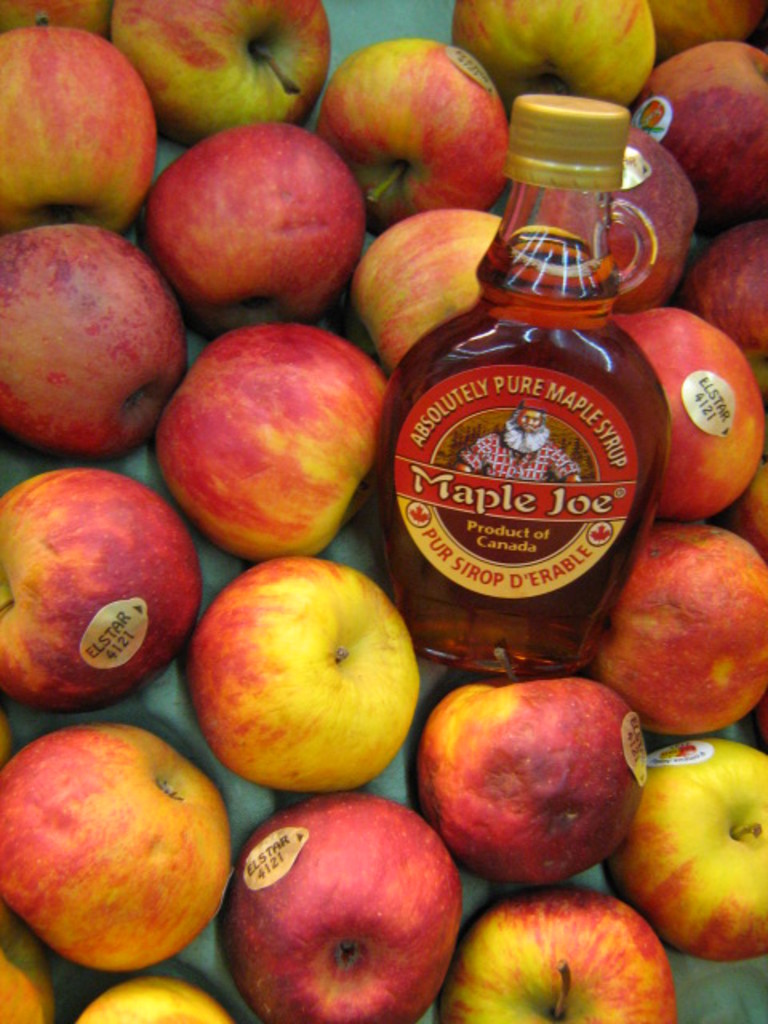Apple: (0, 0, 766, 1022), (419, 654, 648, 888)
